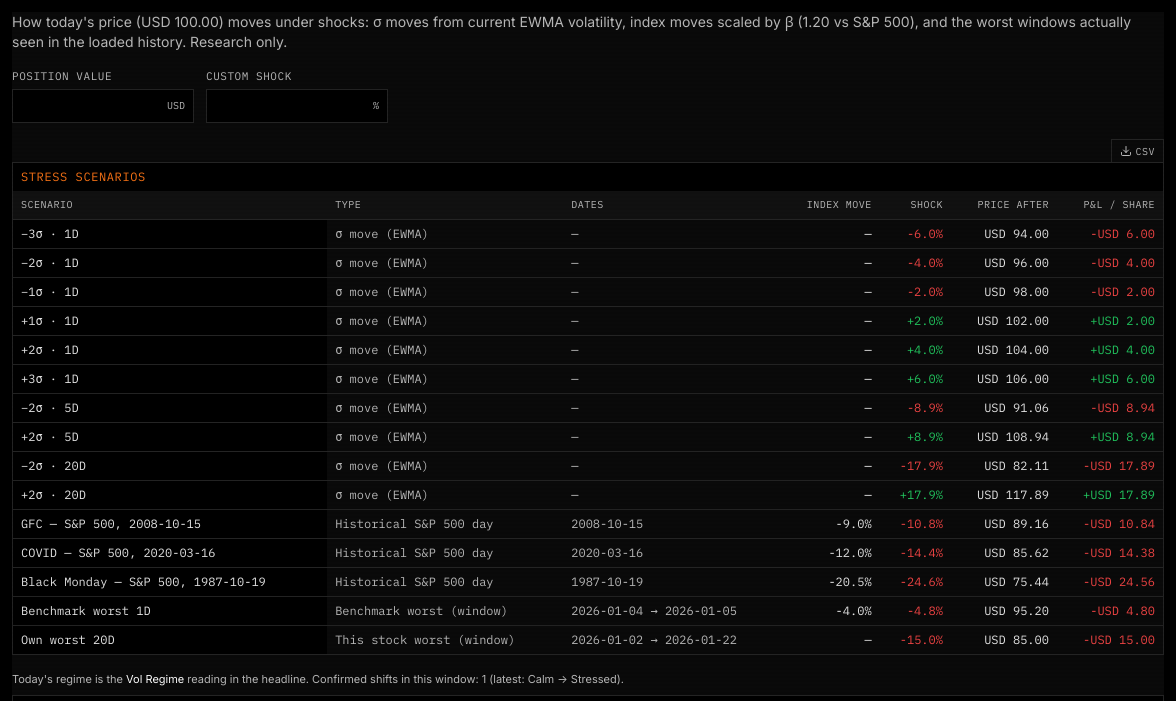
Test: ScenarioSection › prices a position and adds a custom shock row
Type "10000" into the number field labelled "Position value" at (90, 106), box [13, 90, 167, 122]
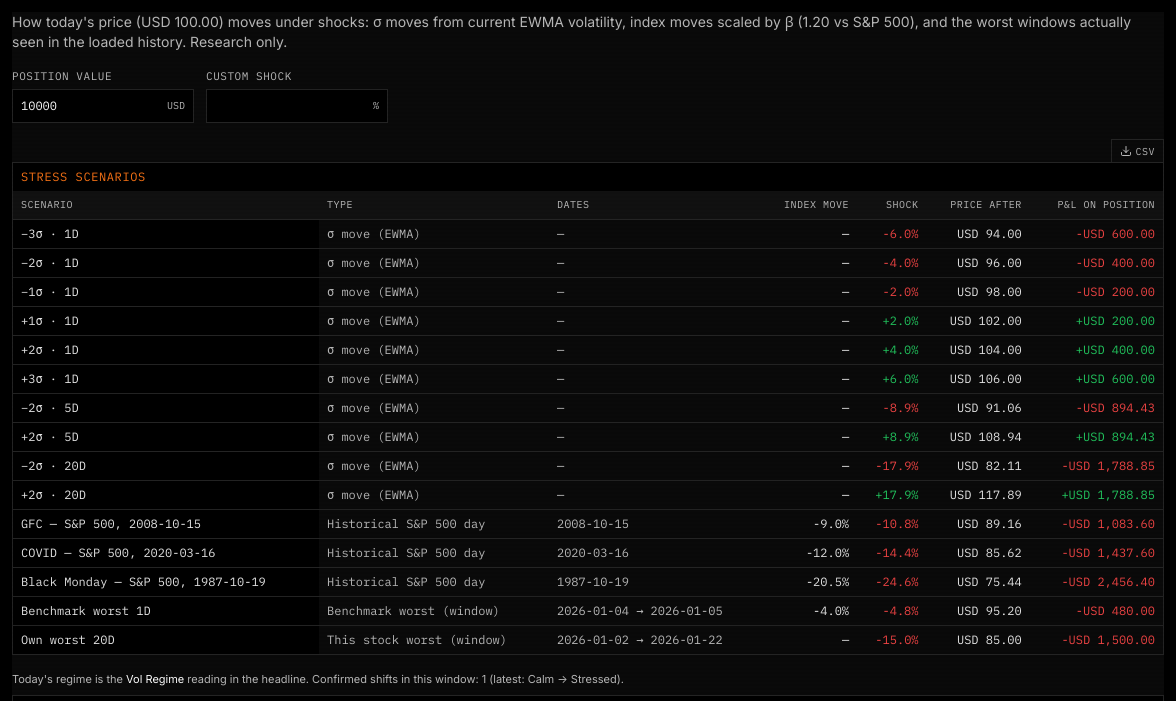
Type "-7" into the number field labelled "Custom shock" at (290, 106), box [207, 90, 373, 122]
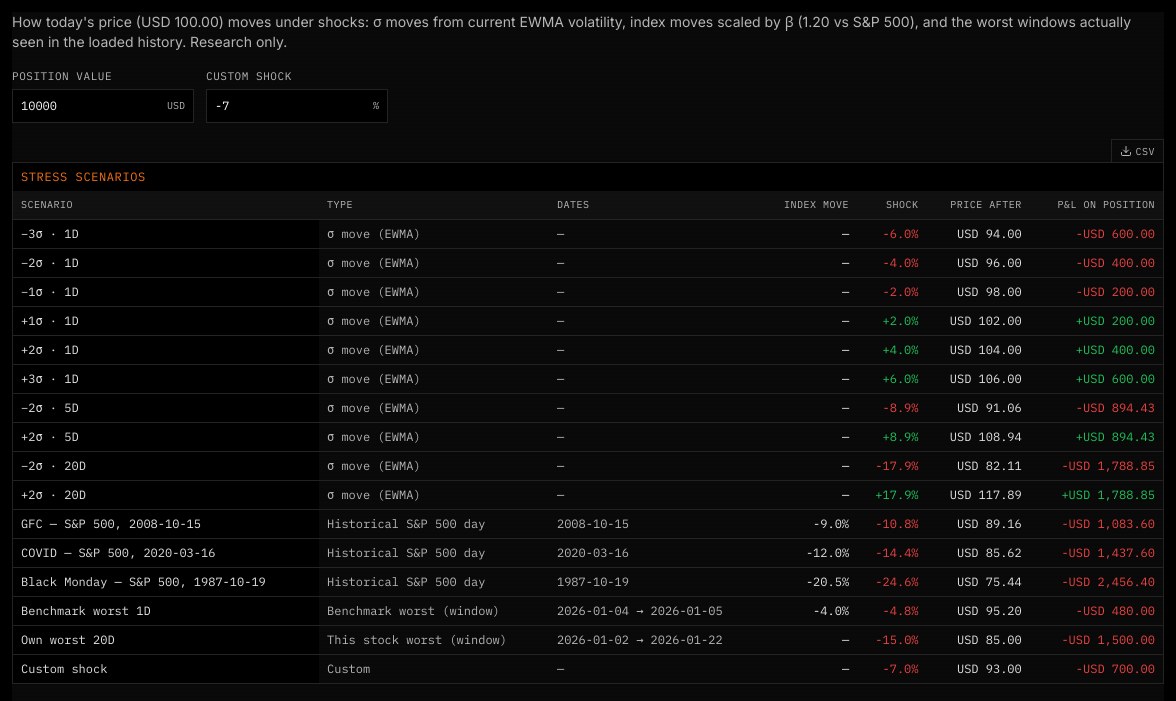
Check: the text "-USD 700.00" is shown, box [1030, 654, 1163, 682]
